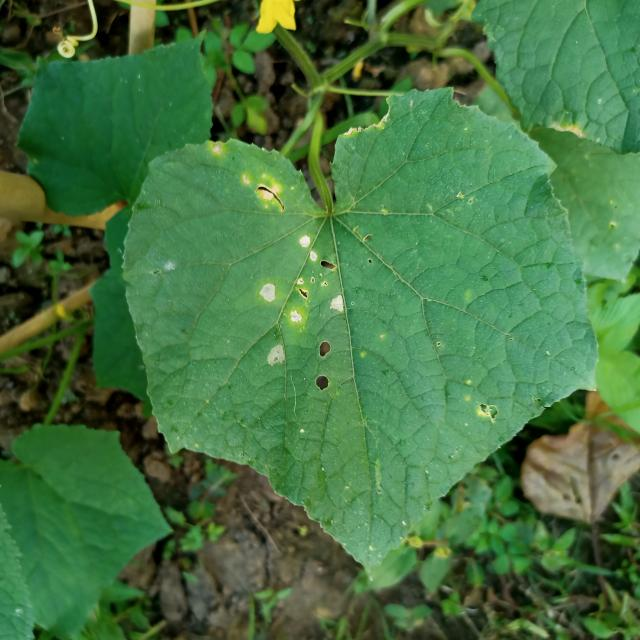disease_cucumber: (252, 231, 360, 373)
